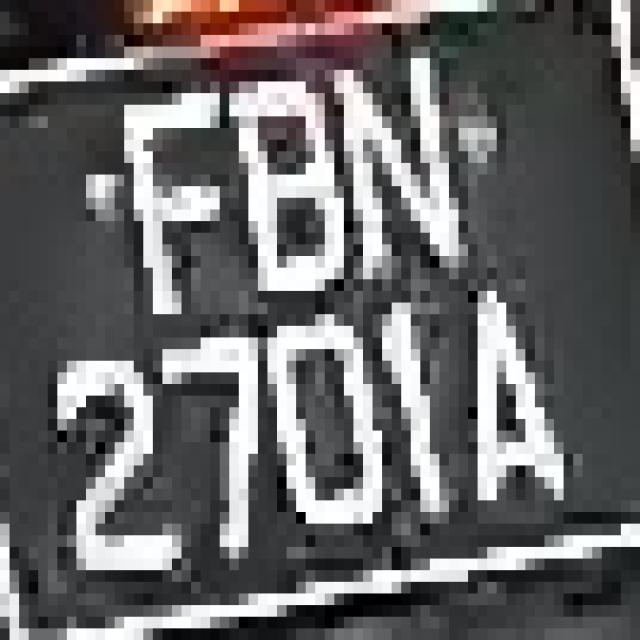0: (258, 302, 382, 547)
1: (373, 256, 468, 559)
2: (19, 326, 172, 593)
7: (162, 338, 286, 558)
A: (401, 279, 592, 559)
B: (200, 23, 354, 303)
F: (105, 58, 220, 338)
N: (306, 12, 478, 279)
